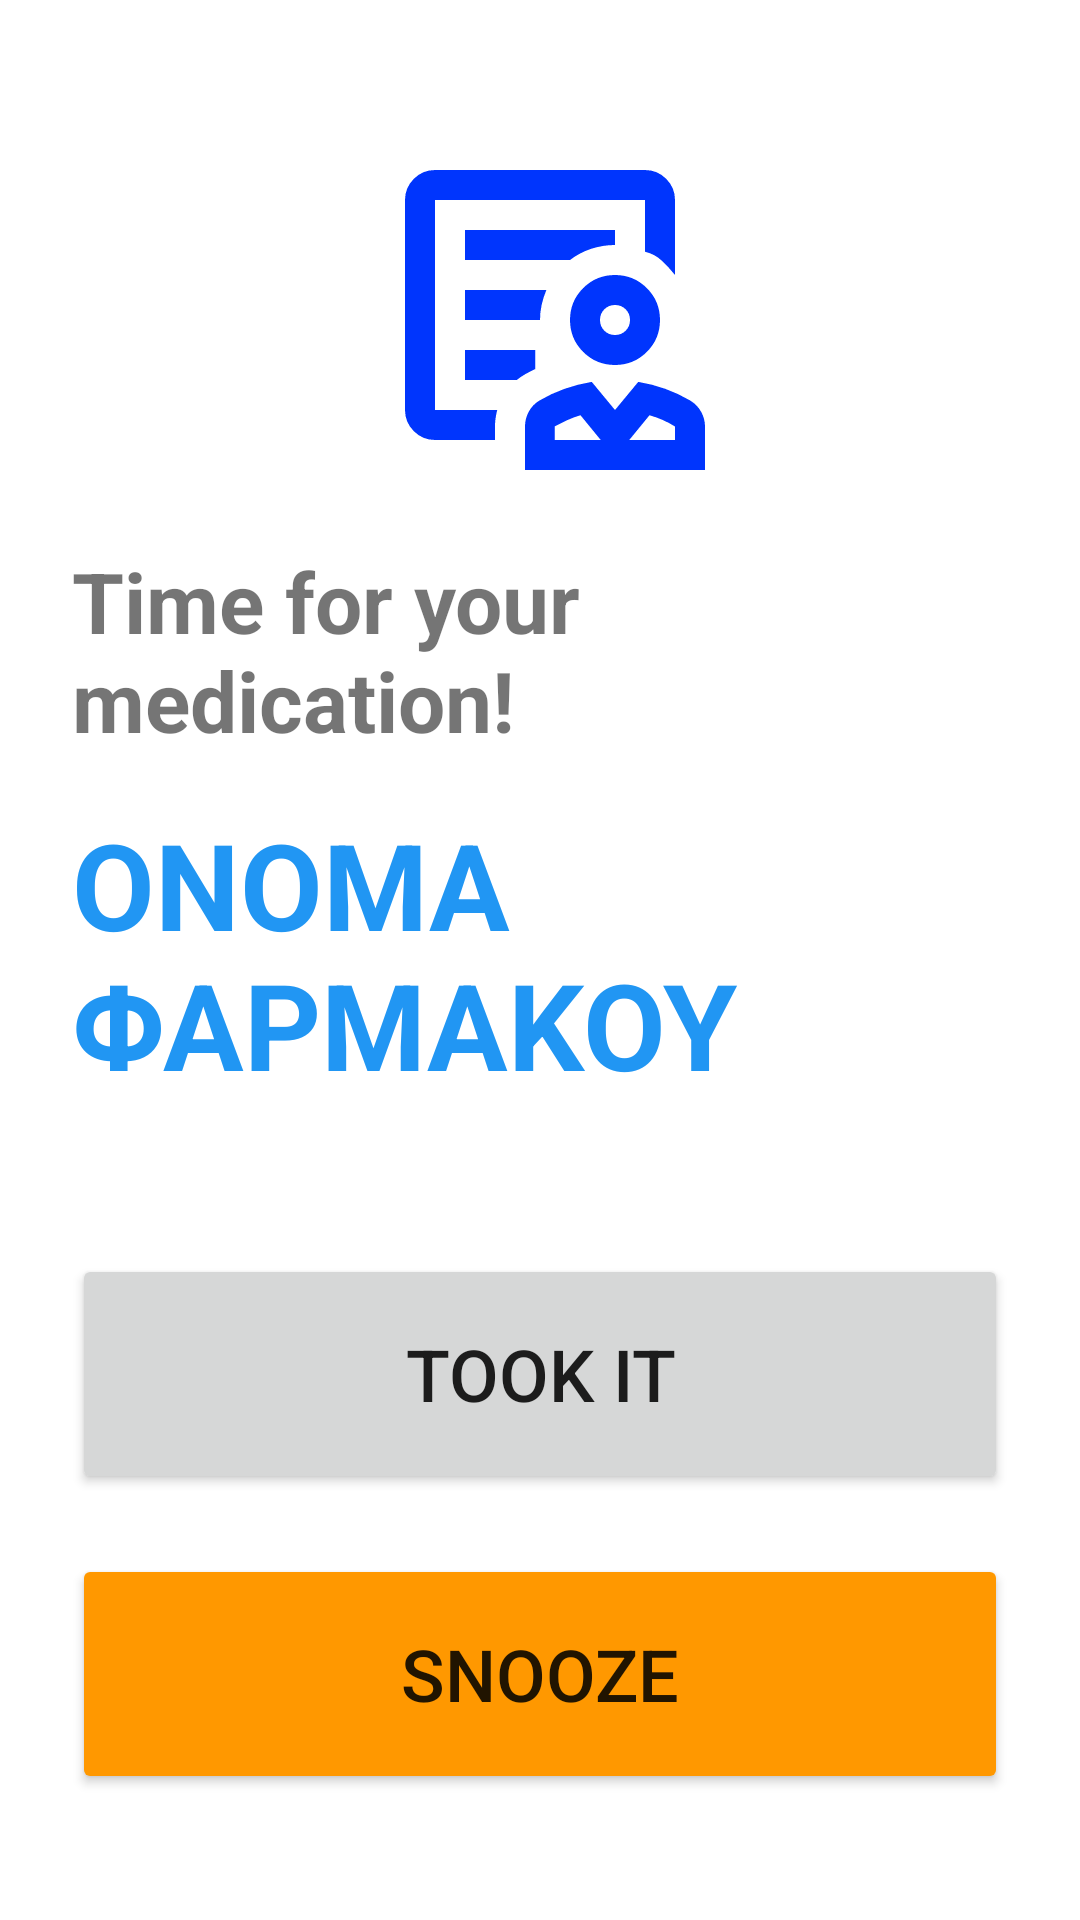

Icons on this 1080 x 1920 Android screen, each with the point to tap as (x,y):
clinical notes: (555,320)
